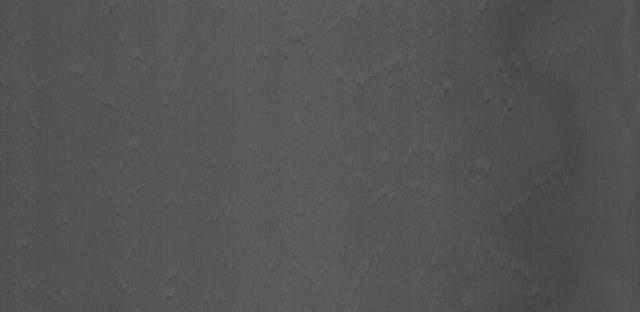silk_spot: (326, 46, 448, 237), (465, 43, 558, 235)
